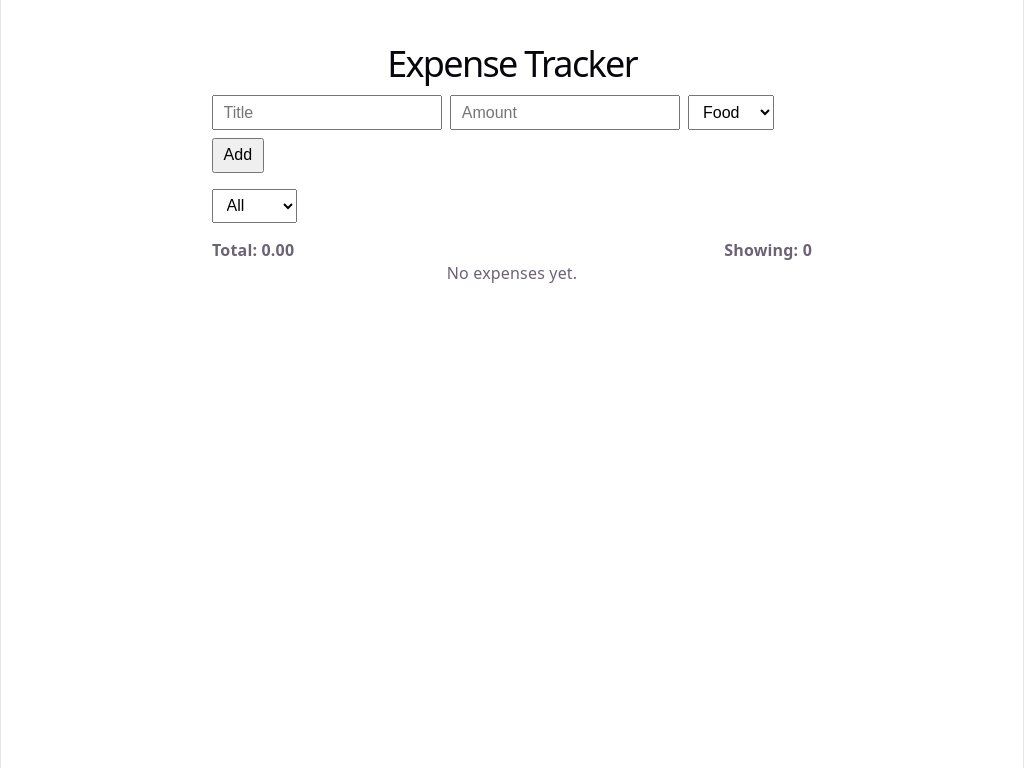
Scenario: invalid input › does not add an expense with an empty title
The width and height of the screenshot is (1024, 768).
Type "100" into the field with test id "amount" at [565, 113], box x1=450 y1=95 x2=680 y2=130
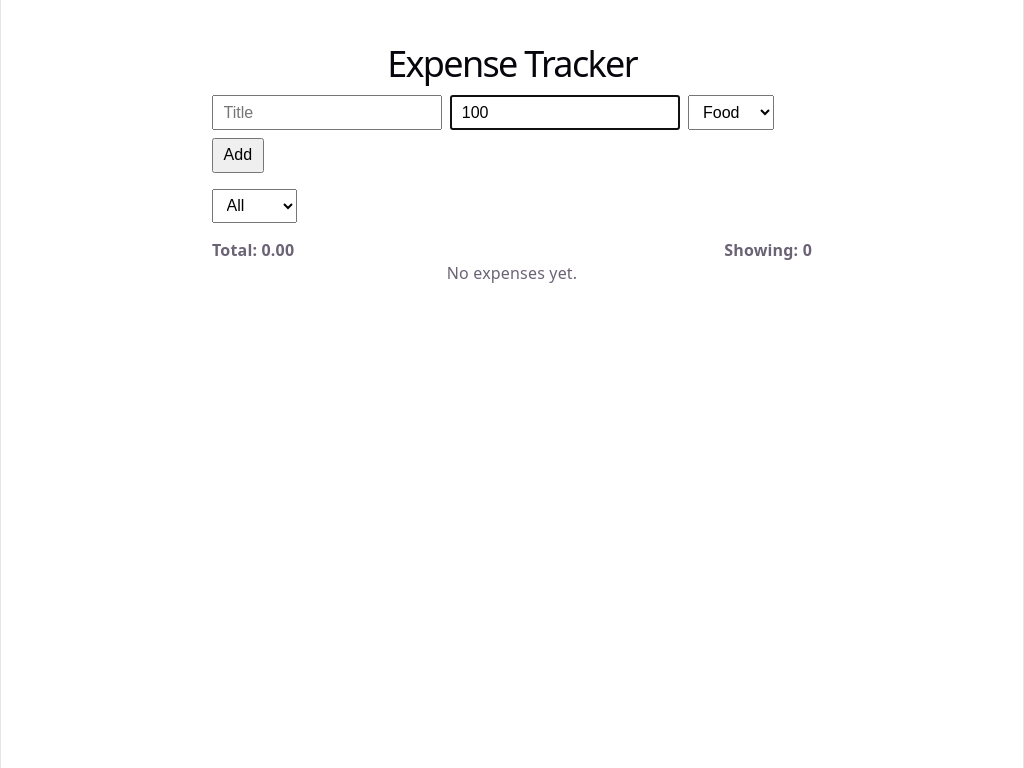
Click the button with test id "add-expense" at [238, 156], box x1=212 y1=138 x2=264 y2=173
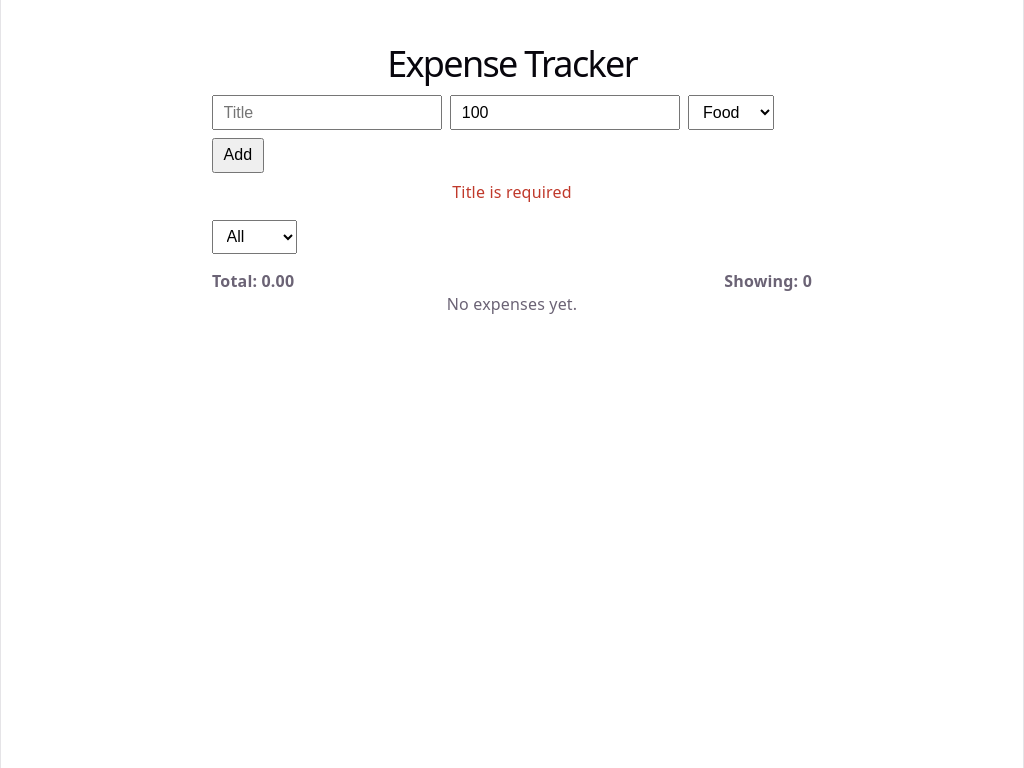
Expected: the text "Title is required" is shown, x1=452 y1=181 x2=572 y2=203
